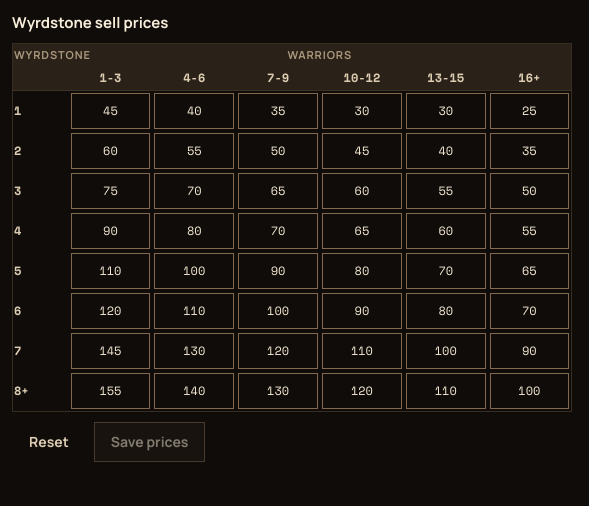
Test: Wyrdstone sell prices › refuses an empty cell before sending anything
Clear the field named "5 Wyrdstone, 13-15 warriors" at (446, 270), box 406,252 -> 486,288
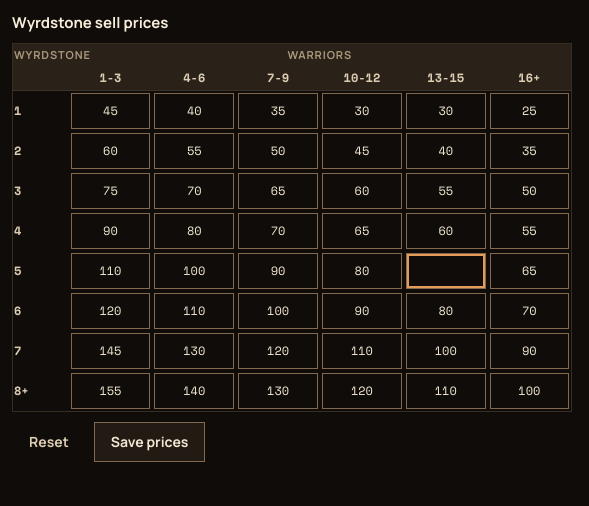
Click the button "Save prices".
click(150, 442)  # box 94,422 -> 206,462
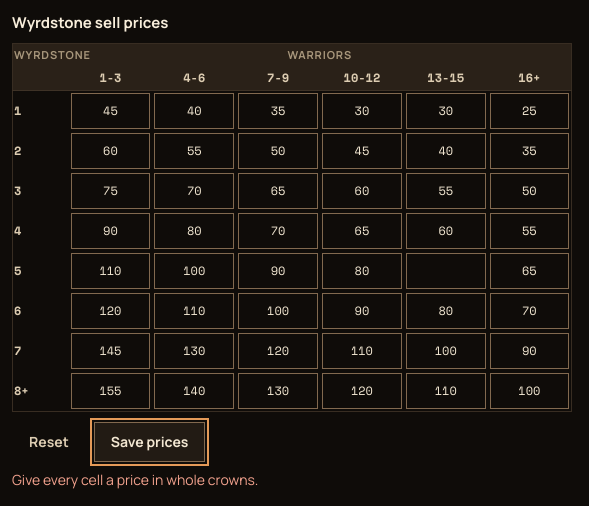
Expected: the message reads "Give every cell a price in whole crowns.", 12,470 -> 258,488
